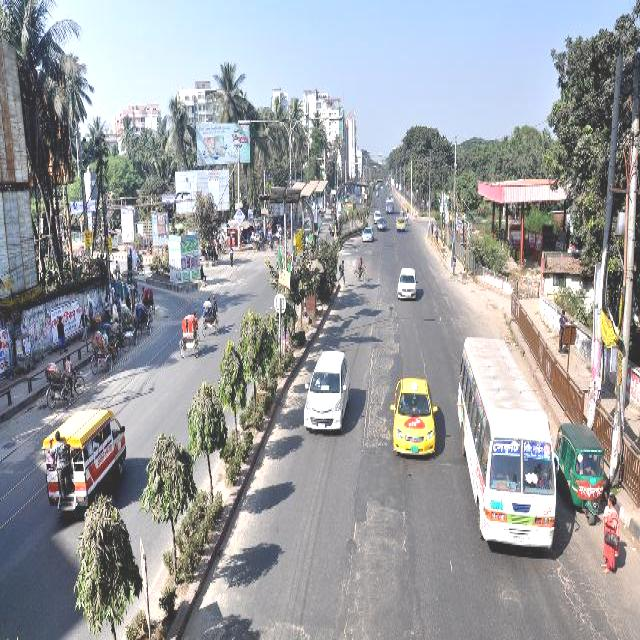BUS: (454, 339, 557, 557)
TRUCK: (41, 409, 126, 520)
